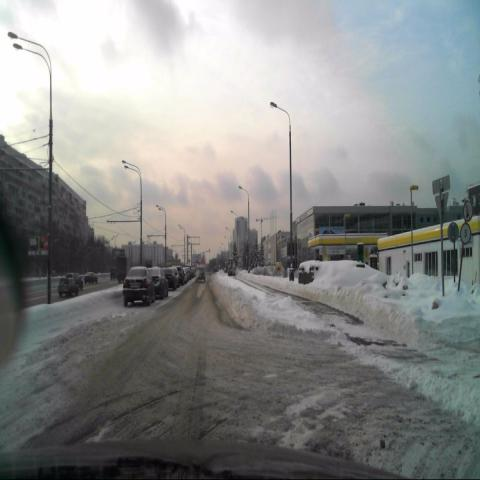3_24: (460, 225, 470, 246)
